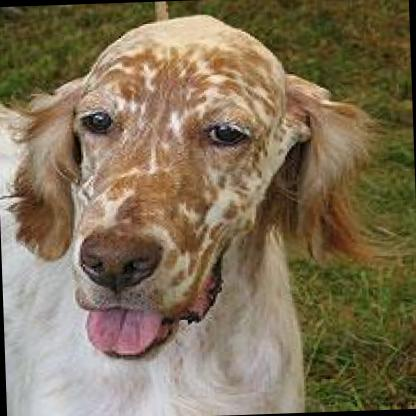English_setter: (0, 2, 414, 416)
